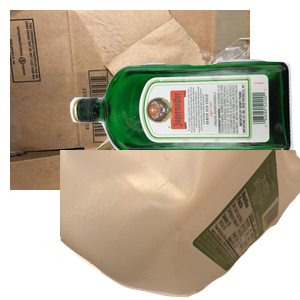cardboard: (10, 10, 250, 190)
glass: (67, 56, 300, 206)
plastic: (60, 150, 300, 300)
trash: (61, 127, 260, 300)
